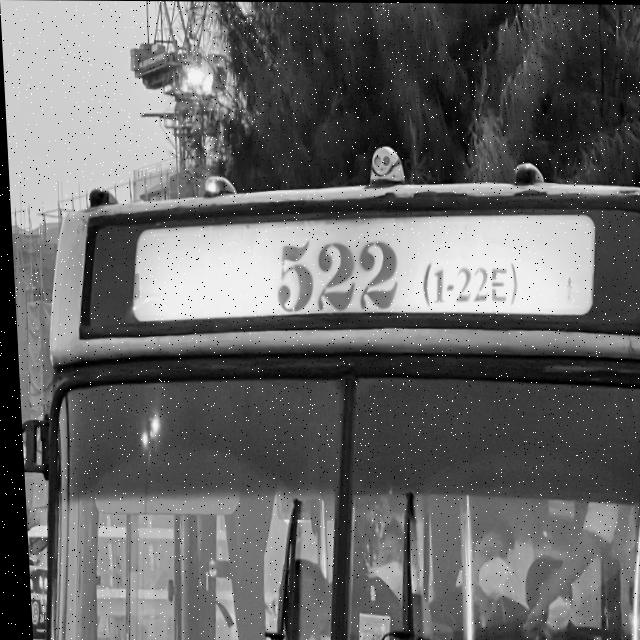BMTA-bus: (5, 133, 640, 640)
Bus-Line-Number: (263, 226, 525, 314)
